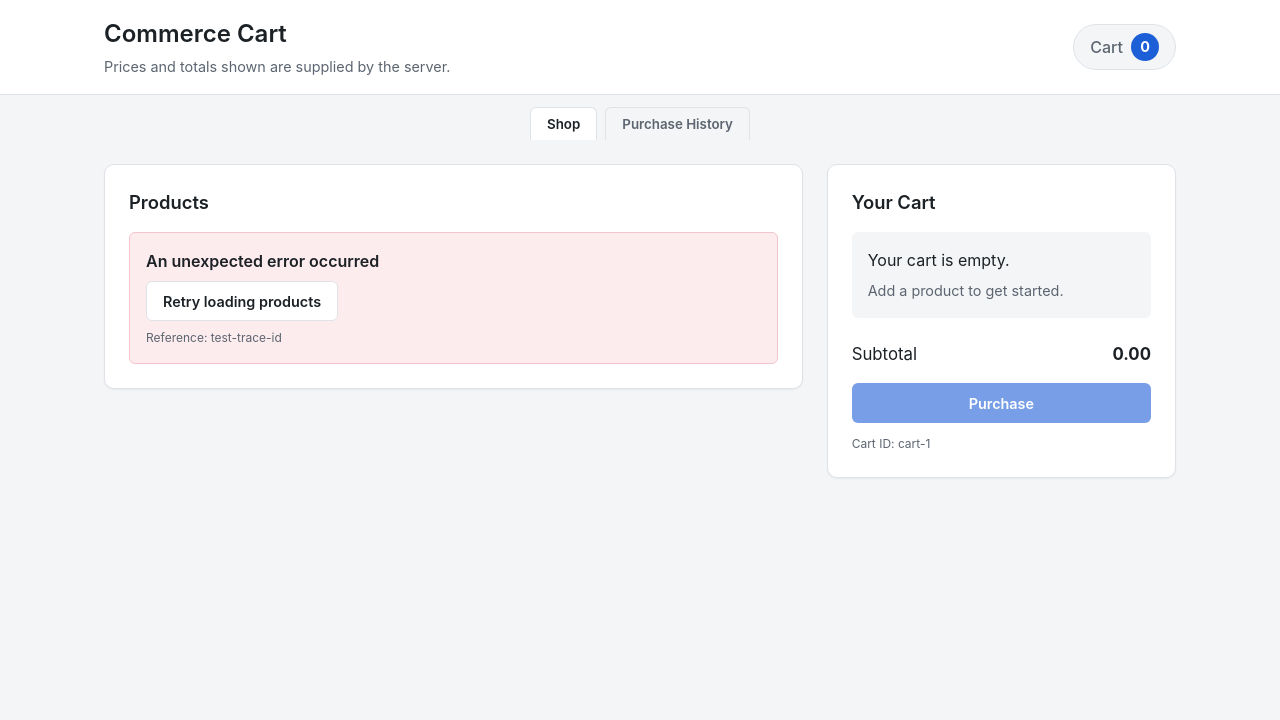
Test: Commerce Cart application › recovers after retrying a failed Product request
Step 1. Click the button "Retry loading products" → [242, 301], box [146,281,338,321]
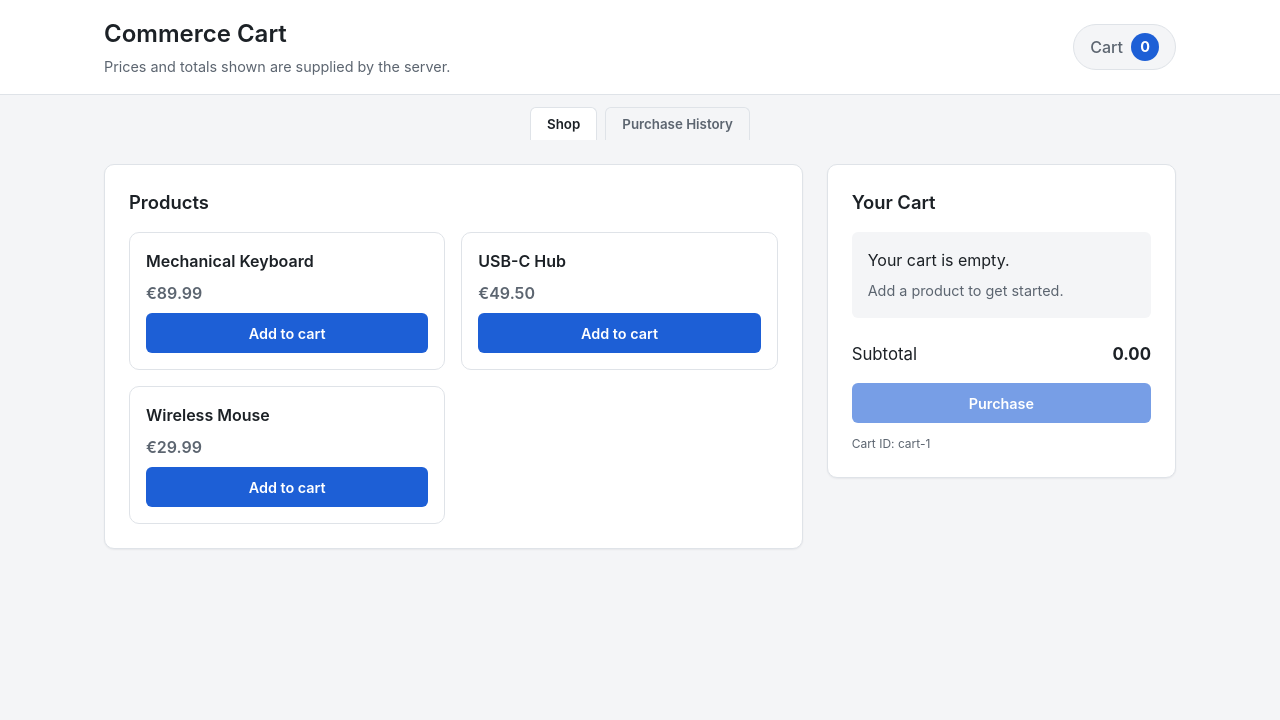
Expected: the heading "Mechanical Keyboard" is shown, [146,251,314,271]
